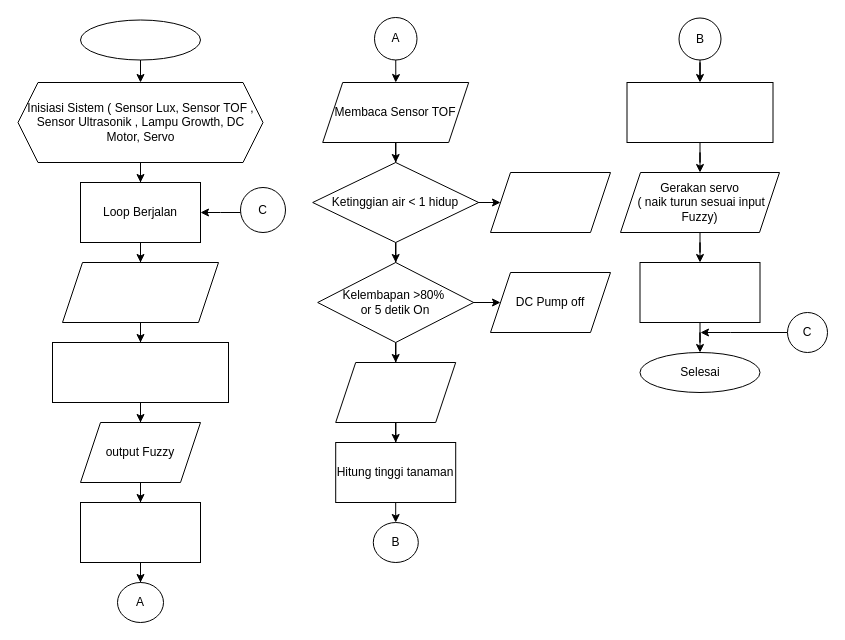
The diagram is 845 pixels wide and 640 high, and some of its shapes have lost their labels. The centre of each missing label's shape, as x and y in pixels:
"Aktifkan lampu growth ( 1-6 strip sesuai Kebutuhan)" belongs at [140,532].
"DC pump On" belongs at [550,202].
"Fuzzy control cahaya (input = intensitas lux, output= jumlah strip lampu )" belongs at [140,372].
"Kirim data sensor ke web server" belongs at [699,292].
"Kontrol fuzzy pada ketinggian input = Tinggi tanaman output = sudut servo" belongs at [699,112].
"Membaca Sensor Lux" belongs at [140,292].
"Membaca Sensor ultrasonik" belongs at [395,392].
"Mulai" belongs at [140,39].
